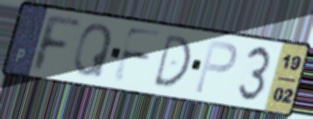3: (234, 43, 274, 105)
D: (150, 33, 192, 89)
F: (31, 11, 84, 75), (109, 25, 165, 85)
P: (192, 38, 240, 96)
Q: (71, 21, 116, 80)
